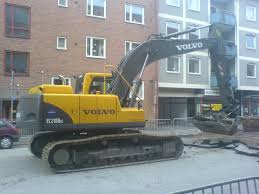excavator: (31, 24, 242, 174)
